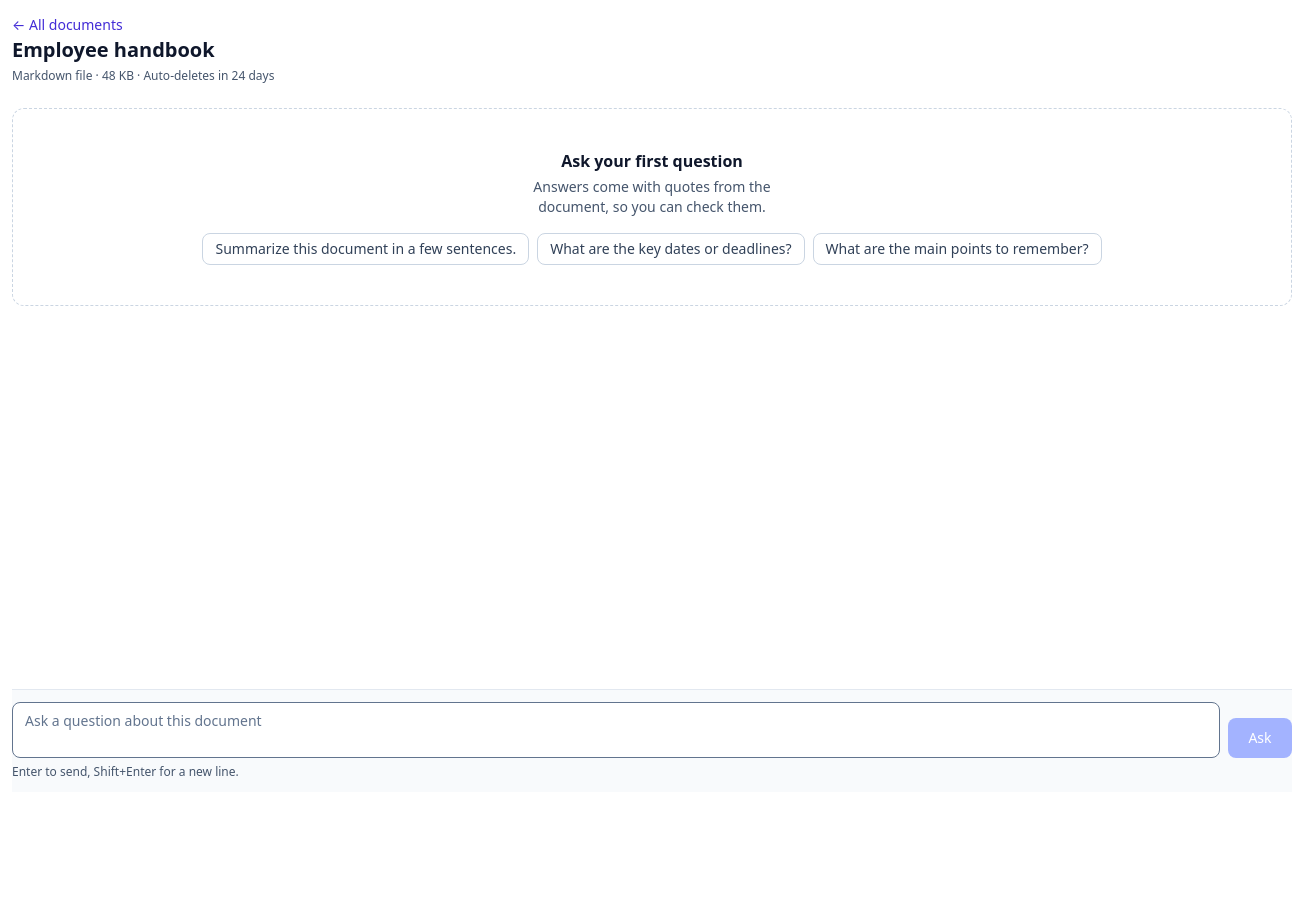
Test: ChatView: when the session has ended › offers a way back to sign in instead of a retry that cannot work
Type "How many vacation days do I get?" into the text box named "Your question".
click(616, 730); type("How many vacation days do I get?")  # box top-left (12, 702), bottom-right (1220, 758)
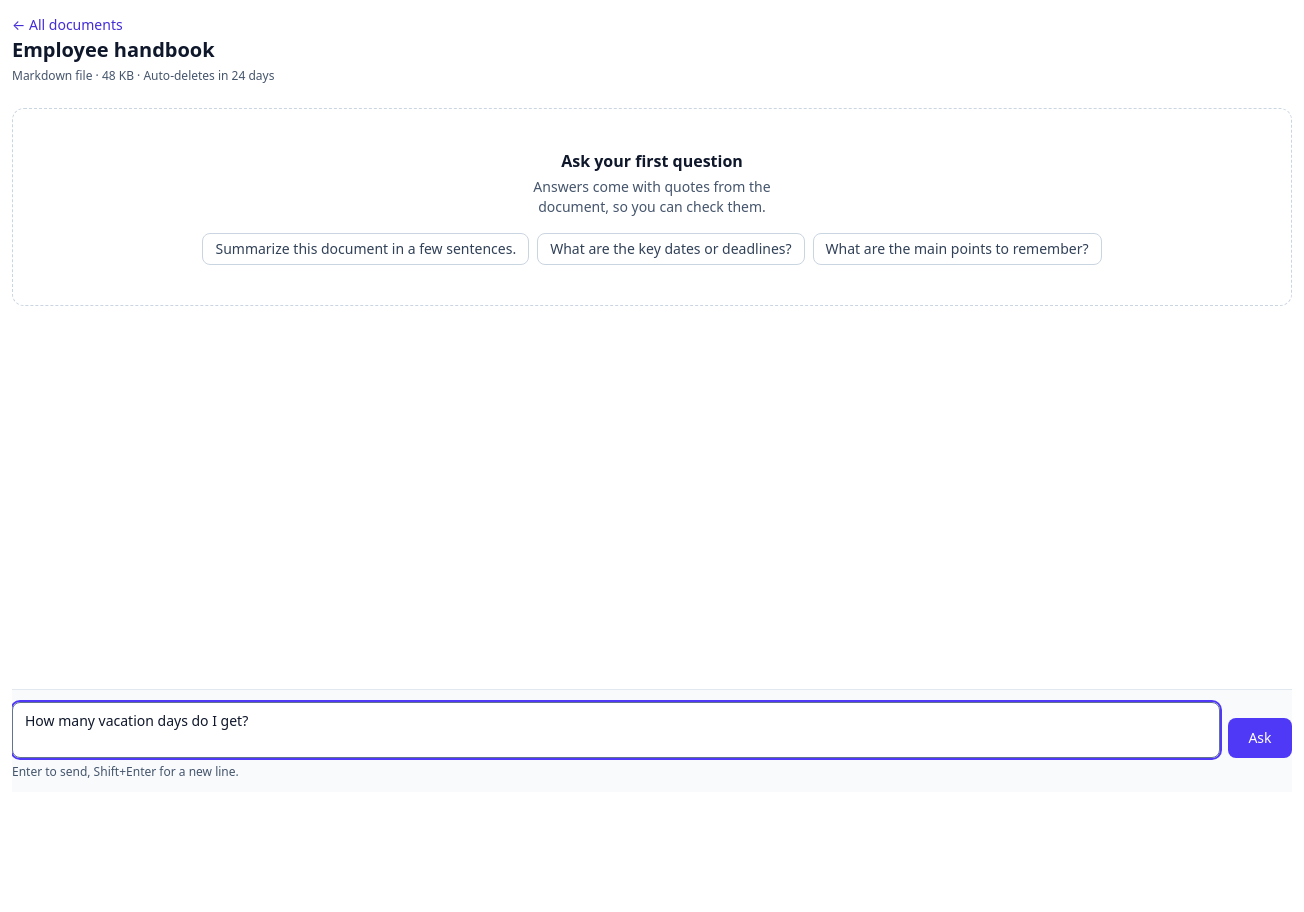
Press Enter
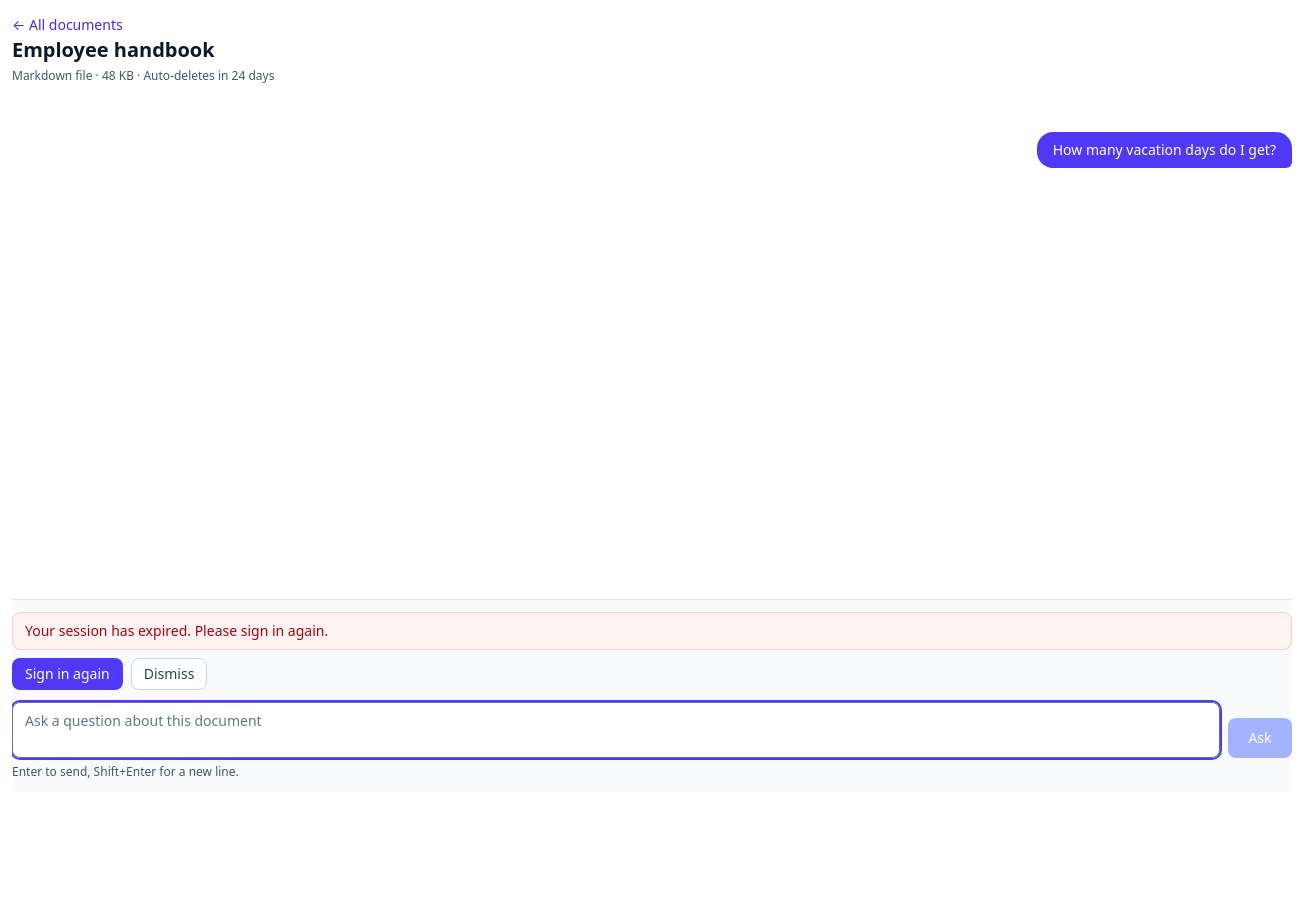
Expected: the message shows "session has expired", top-left (25, 621), bottom-right (328, 640)
